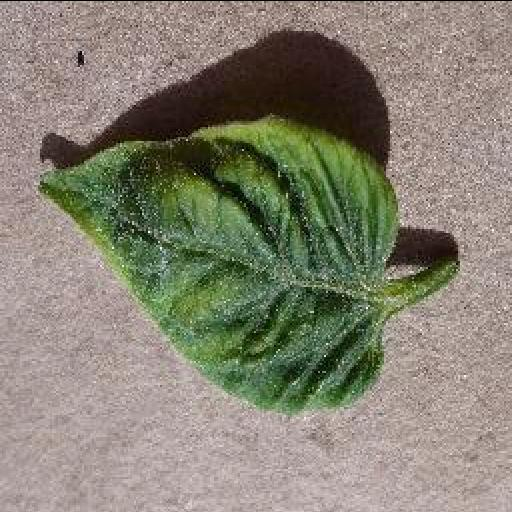disease_tomato: (34, 114, 398, 414)
